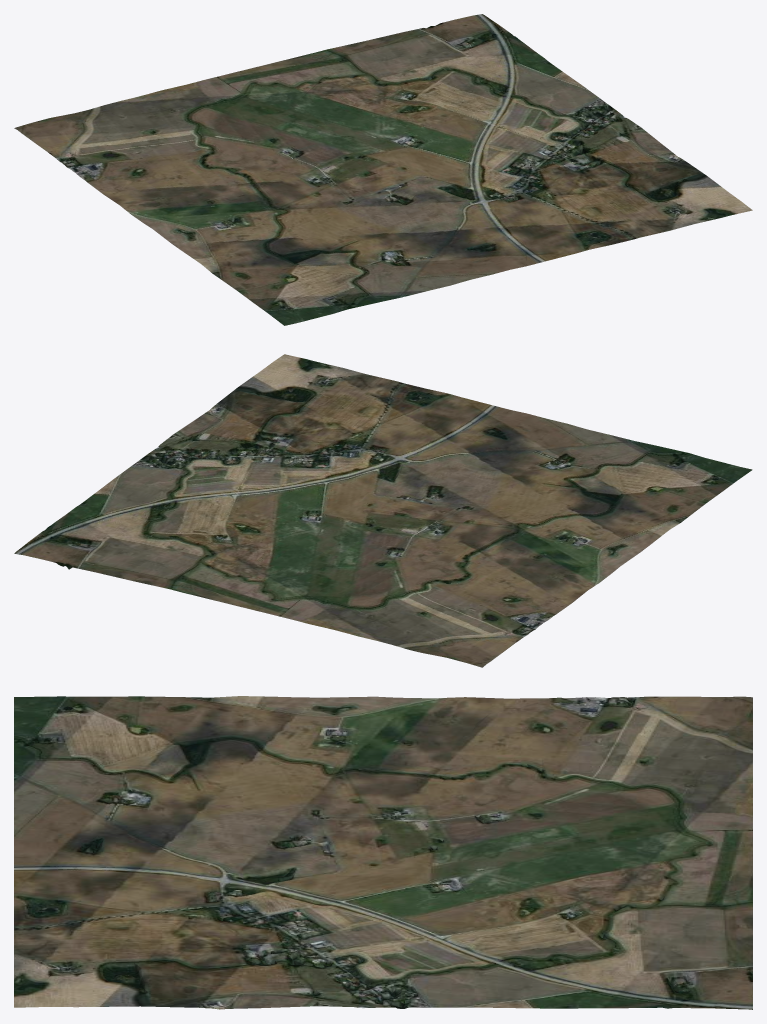
Rendered from map_10_251_430.dae.
3 renders of one model, top to bottom at view 1: azimuth 30°, elevation 25°; view 2: azimuth 150°, elevation 25°; view 3: azimuth 270°, elevation 25°, orthographic. The views are drawn at different scales.
Parts seen in each view (by area): view 1: Ter0; view 2: Ter0; view 3: Ter0.
Part boxes in pixels (x1,y1,x2,y2): Ter0: (14, 14, 752, 325); Ter0: (14, 354, 752, 667); Ter0: (14, 696, 752, 1009).
Bounding box in the file's own units: 2044 × 2044 × 28.15.
Materials: 3 (3 with a texture image).
